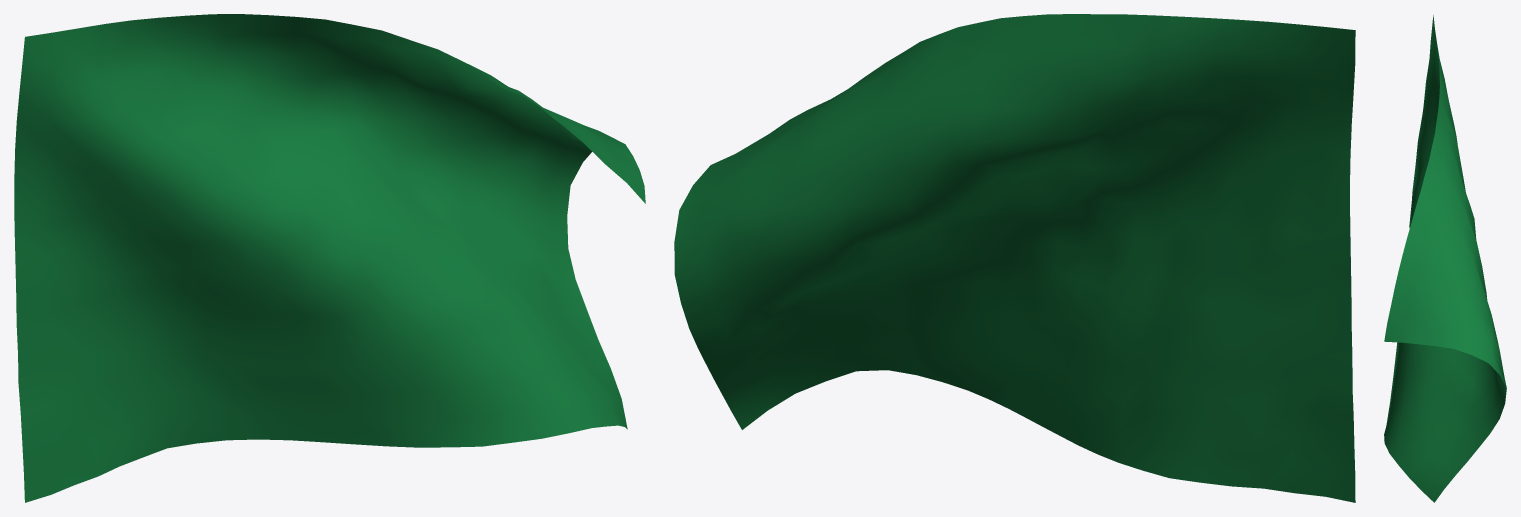
File: green_flag.glb
3 views of the same model, side by side, from view 1: azimuth 30°, elevation 25°; view 2: azimuth 150°, elevation 25°; view 3: azimuth 270°, elevation 25° (orthographic). The views are drawn at different scales.
Visible parts, largest first — view 1: Flag ShapeKeys_2_4_7; view 2: Flag ShapeKeys_2_4_7; view 3: Flag ShapeKeys_2_4_7.
Part boxes in pixels (box(x1,y1,x2,y2)): Flag ShapeKeys_2_4_7: box(14, 14, 645, 502); Flag ShapeKeys_2_4_7: box(674, 14, 1355, 502); Flag ShapeKeys_2_4_7: box(1384, 15, 1506, 502).
Size of the model in its own units: 2.8 by 2.32 by 0.8164.
Materials: 1 (1 with a texture image).
